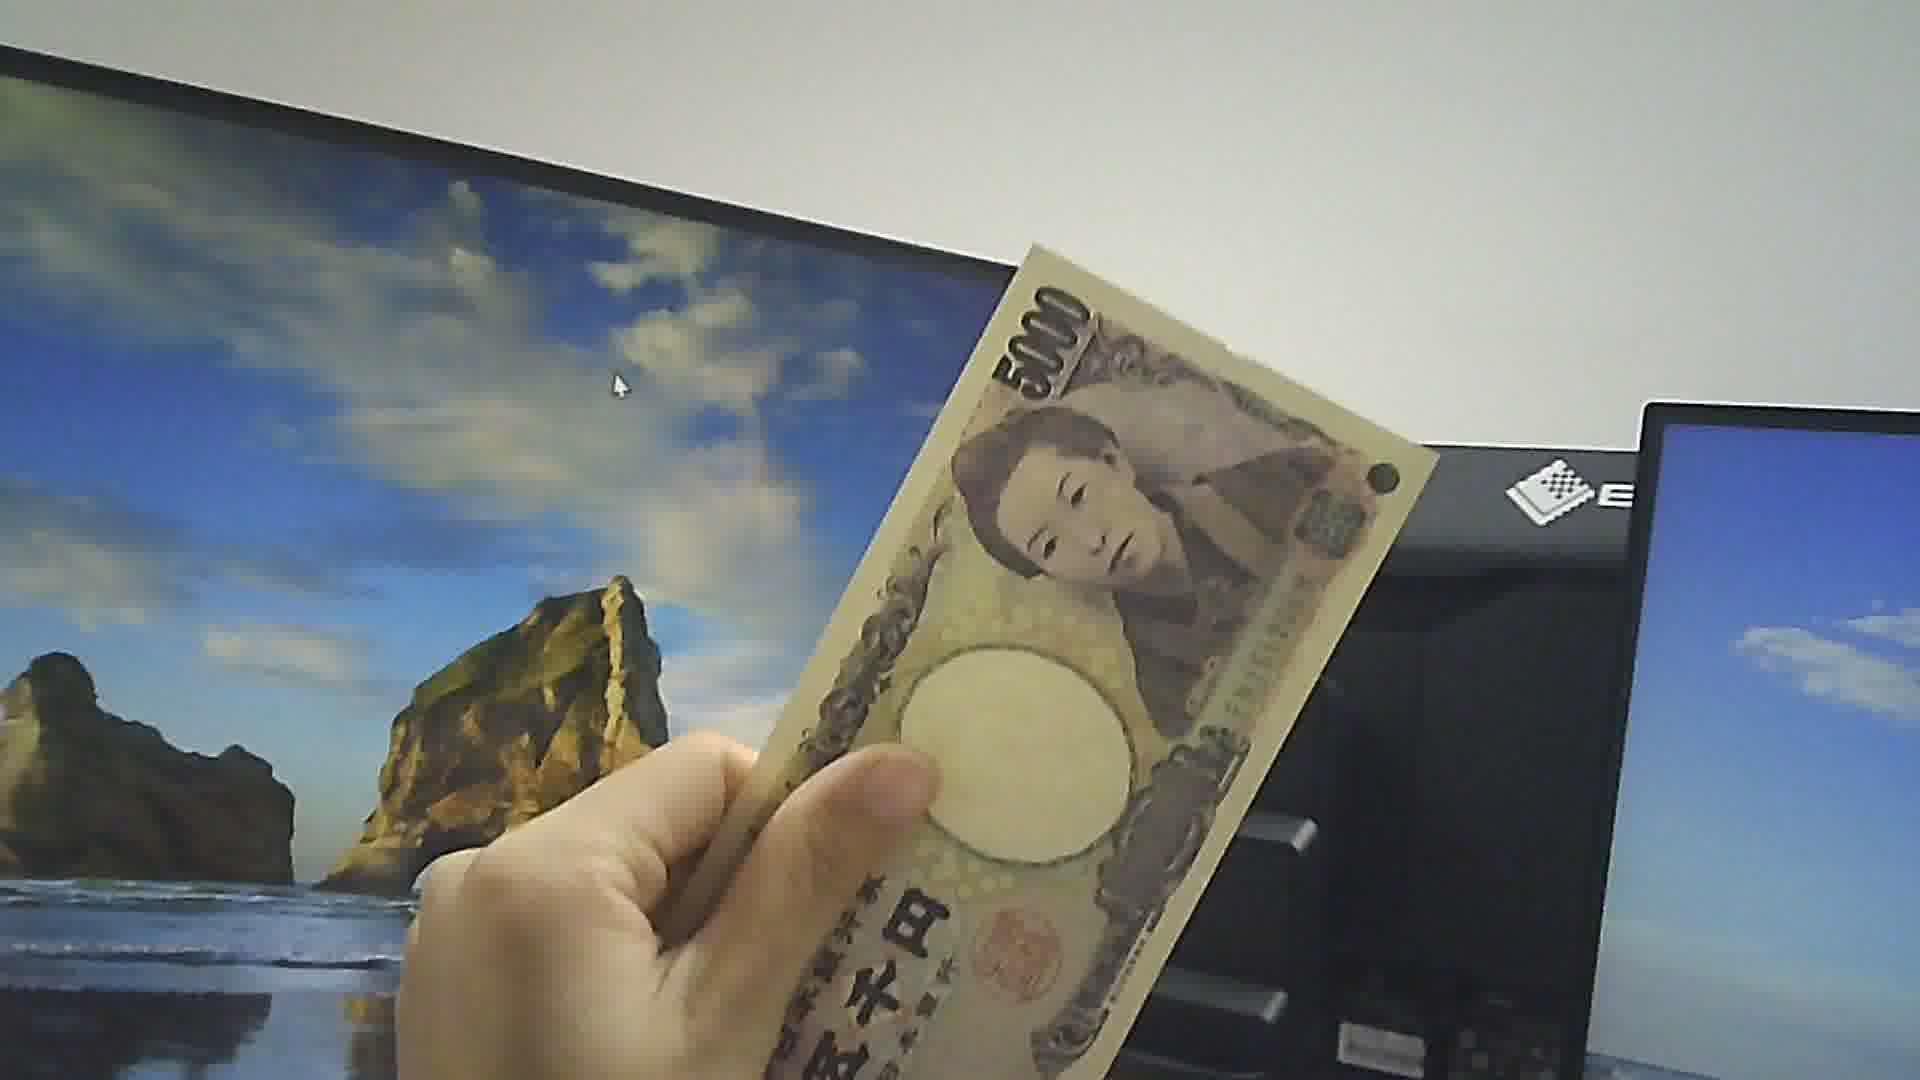5,000 Yen: (675, 220, 1451, 1067)
